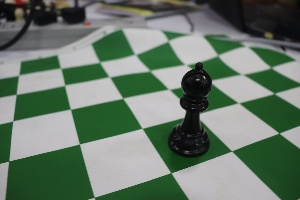black_bishop: (171, 56, 215, 163)
